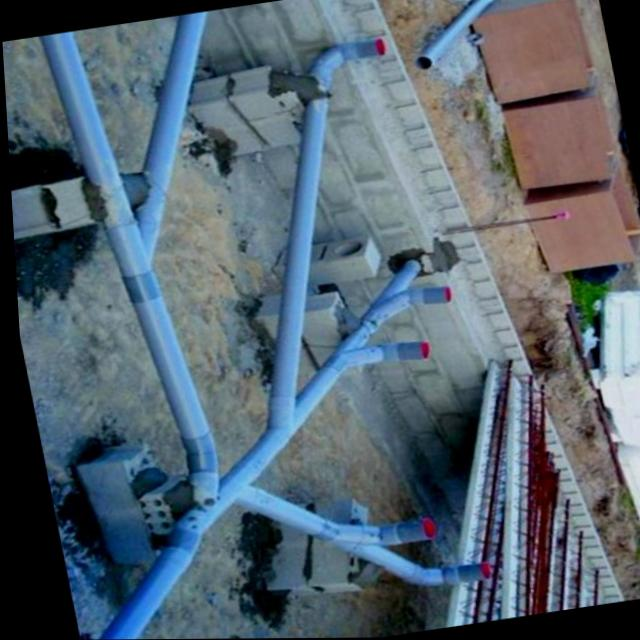leak: (389, 240, 460, 276)
